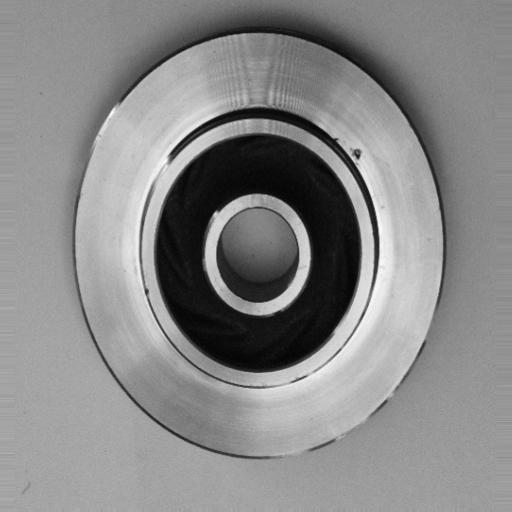crack: (344, 140, 371, 176)
scratch: (142, 146, 175, 215)
unpolished_casting: (72, 29, 452, 461)
